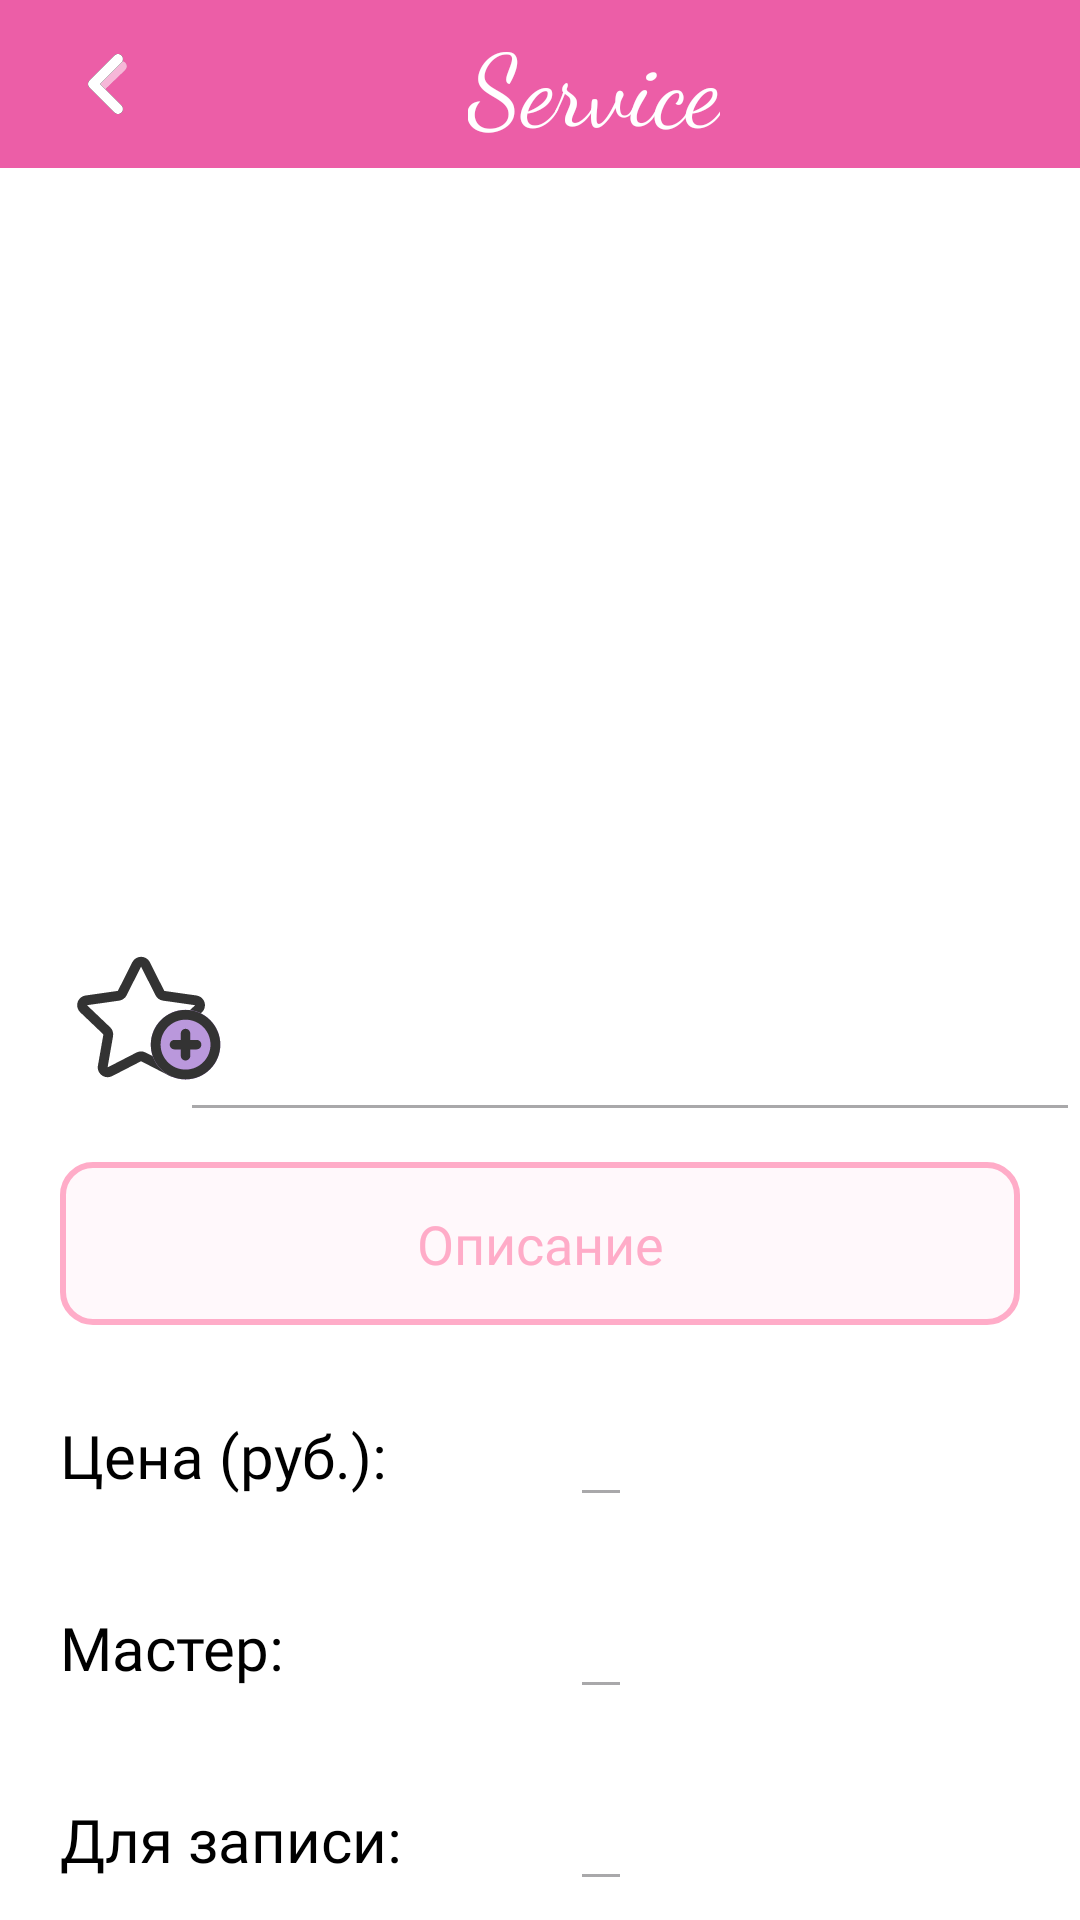

Where to tap for icons on this 1080 x 1920 app screen, as (x=x, y=y):
back: (x=107, y=84)
fav add: (x=149, y=1018)
